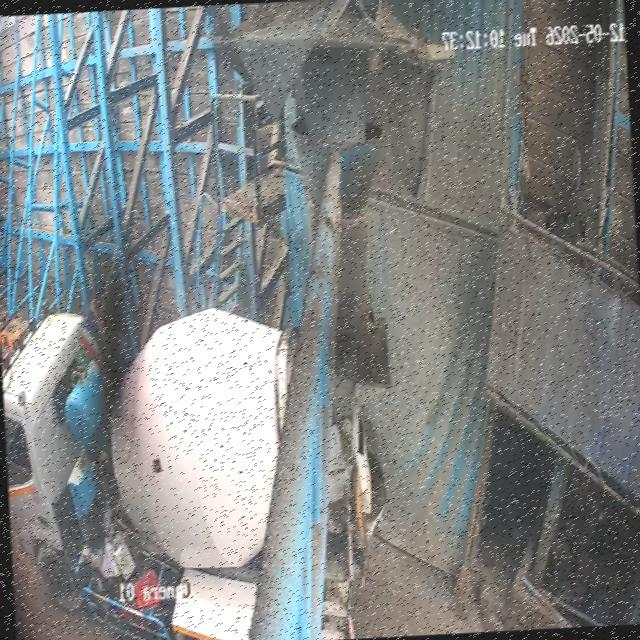cement_mixer_truck: (0, 294, 405, 640)
swing_chute: (291, 120, 381, 334)
